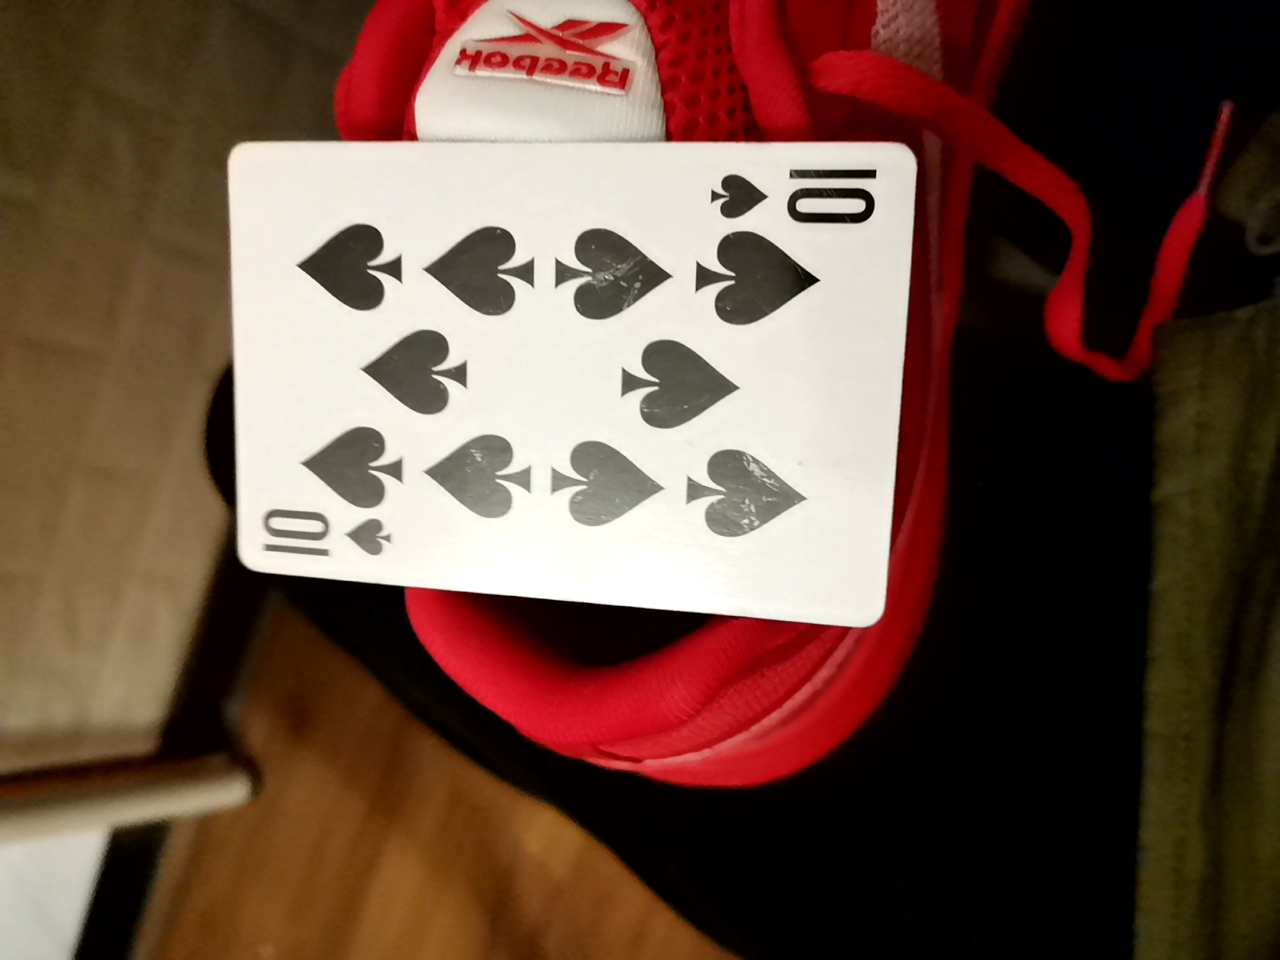ht 10: (211, 129, 916, 614)
